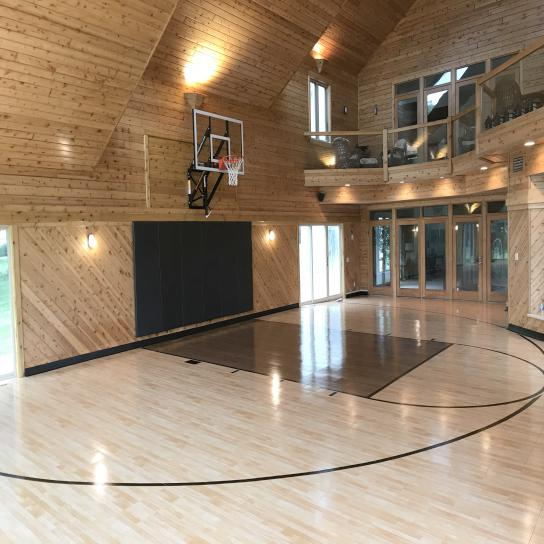basketball-hoop: (222, 154, 245, 188)
